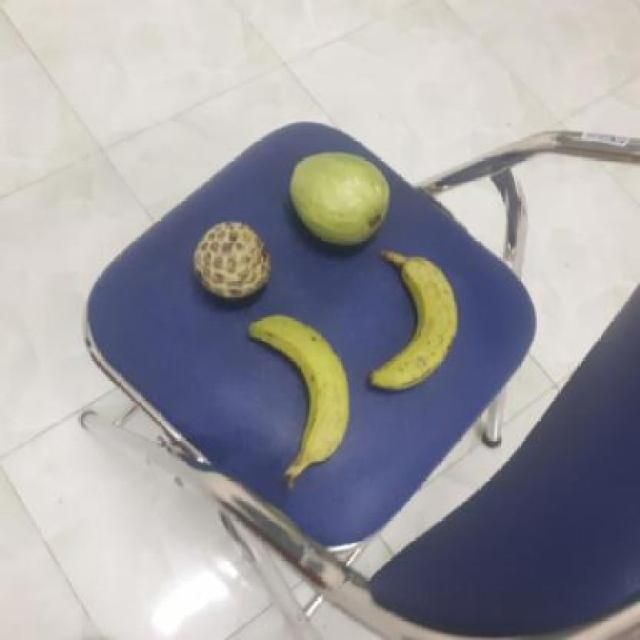banana: (244, 316, 351, 459), (360, 249, 458, 388)
guava: (284, 153, 391, 249)
sugar apple: (191, 218, 271, 302)
